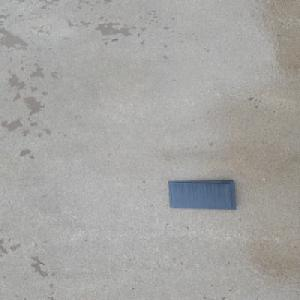PlasticPart: (167, 180, 237, 210)
